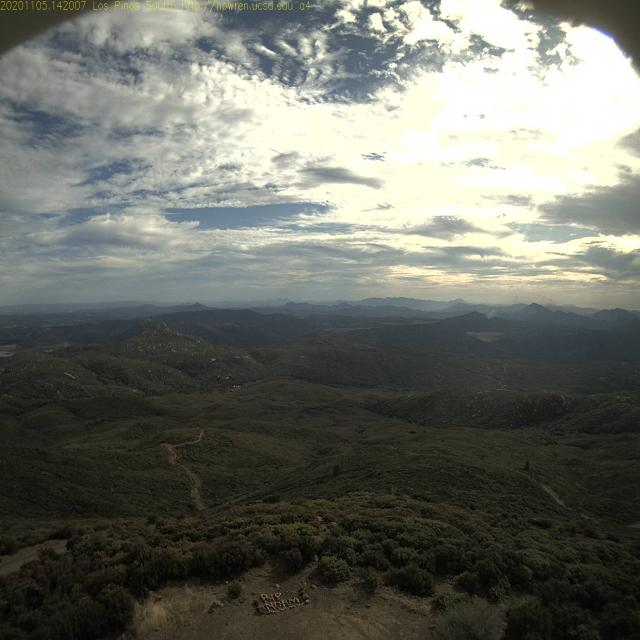smoke: (485, 306, 496, 321)
